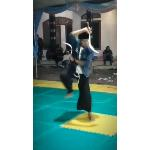Celurit: (78, 18, 106, 58)
